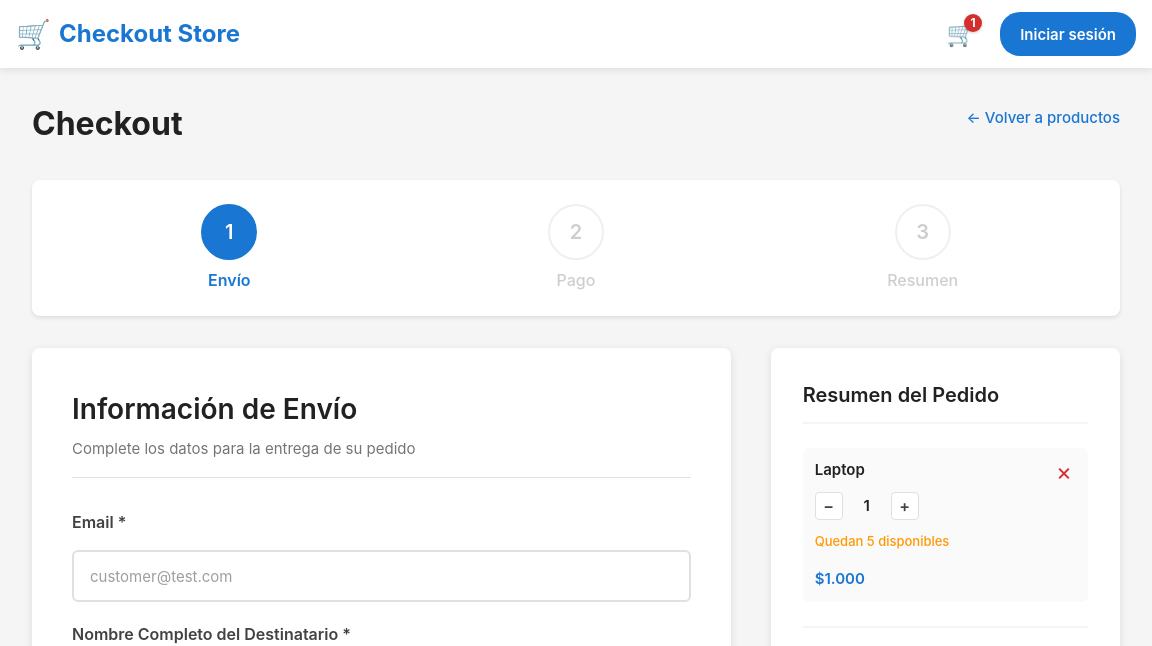
CheckoutPage › Cart Management › should update total when quantity changes
Expected: the text "$1.000" is shown, [815,568,865,588]
What coordinates should you click on to do the following:
click the button named "Aumentar cantidad"
I would click on:
 (905, 506)
Its box is [891,492,919,520].
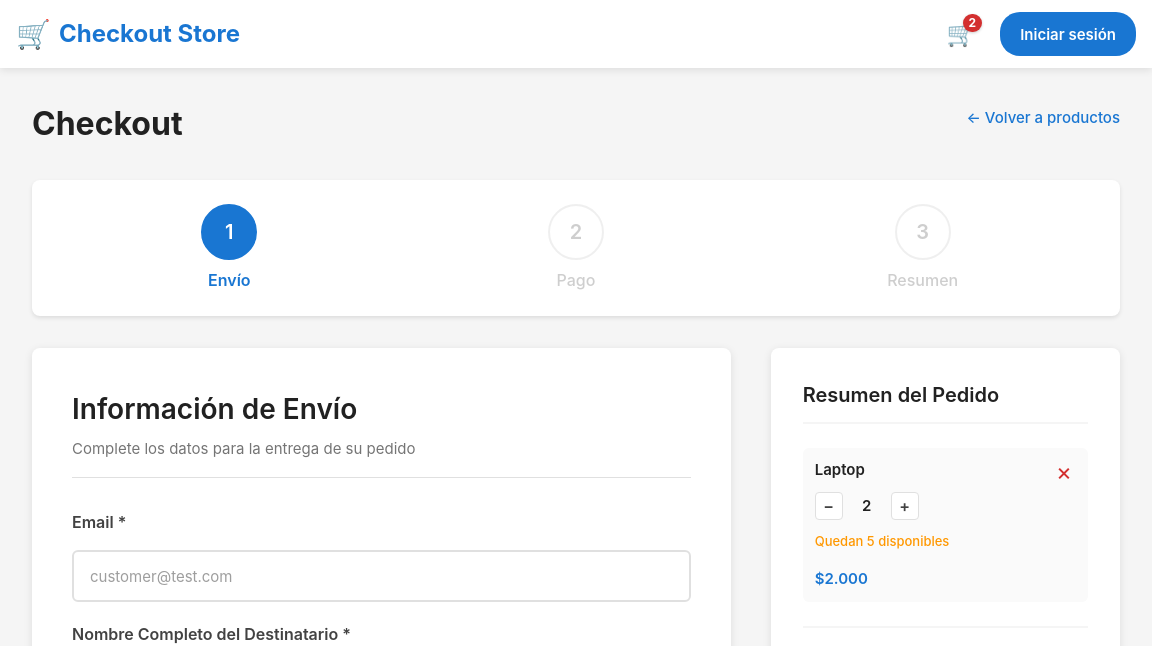
Expected: the text "$2.000" is shown, [815,568,868,588]
